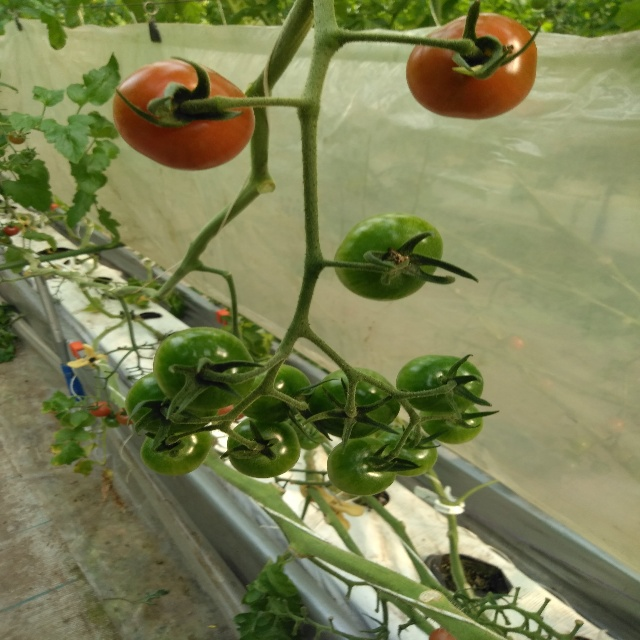l_green: (332, 211, 443, 302), (153, 326, 255, 410), (307, 367, 402, 440), (125, 371, 221, 436), (396, 355, 483, 414), (233, 361, 310, 422), (226, 416, 301, 478), (327, 438, 398, 495), (141, 427, 213, 476), (375, 427, 438, 478), (417, 404, 484, 444)
l_half_ripened: (111, 61, 257, 172), (405, 12, 539, 119)
